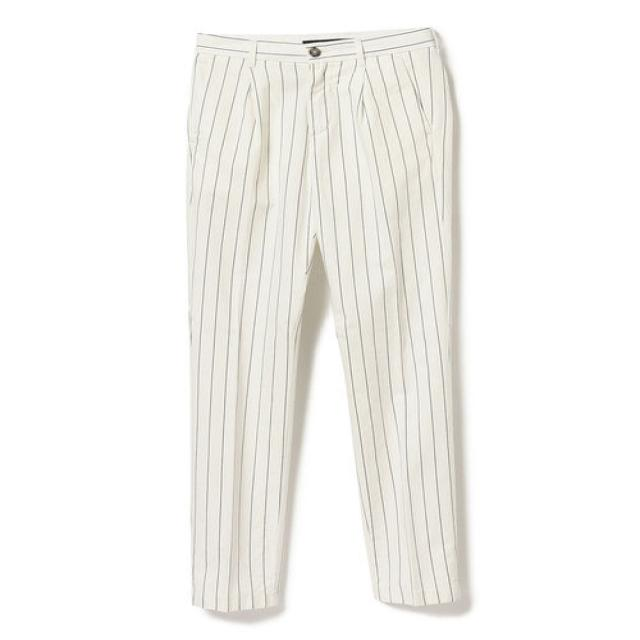long-pants: (184, 26, 477, 627)
